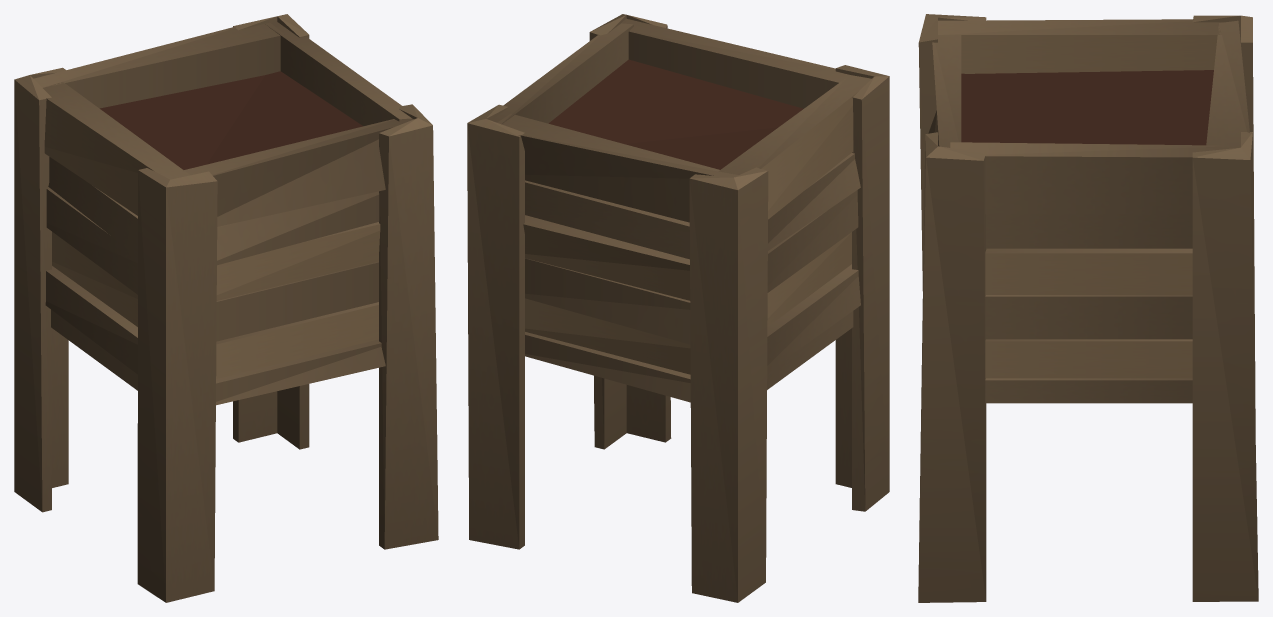
The model's file is ZLP_Build_E_4.FBX.
3 views of the same model, side by side, from view 1: azimuth 30°, elevation 25°; view 2: azimuth 150°, elevation 25°; view 3: azimuth 270°, elevation 25° (orthographic). The views are drawn at different scales.
Parts seen in each view (by area): view 1: ZLP_Build_E_4; view 2: ZLP_Build_E_4; view 3: ZLP_Build_E_4.
Part boxes in pixels (x1,y1,x2,y2): ZLP_Build_E_4: (14,14,438,602); ZLP_Build_E_4: (467,14,889,602); ZLP_Build_E_4: (918,14,1258,602).
Size of the model in its own units: 51.64 by 74.85 by 51.19.
